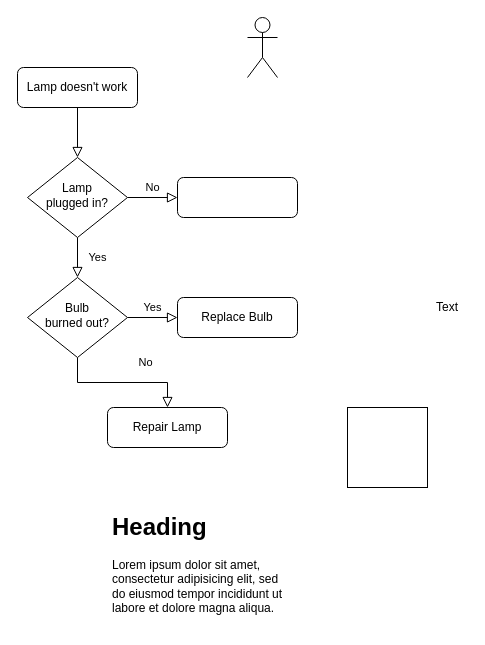
This 485x645 diagram has some shape labels left out. Here are the shapes that lost their labels. From the top down, the centre of each, then its label:
[262,47]: Patient
[237,197]: Plug in lamp
